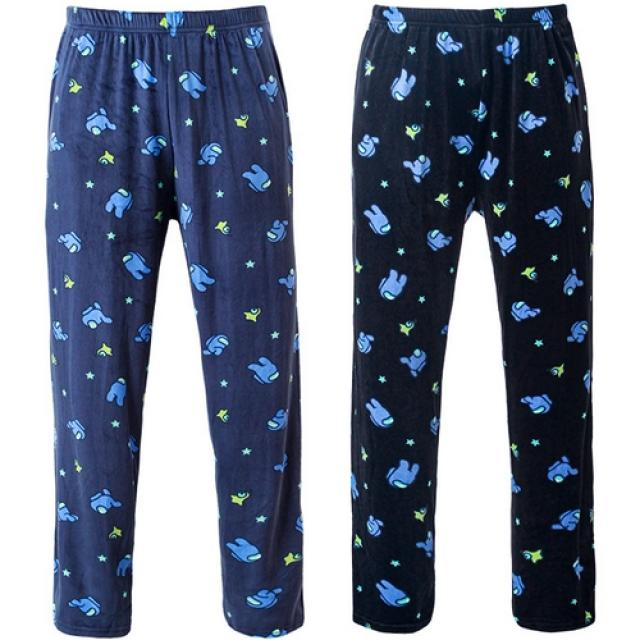pants: (40, 0, 308, 637), (345, 0, 608, 635)
